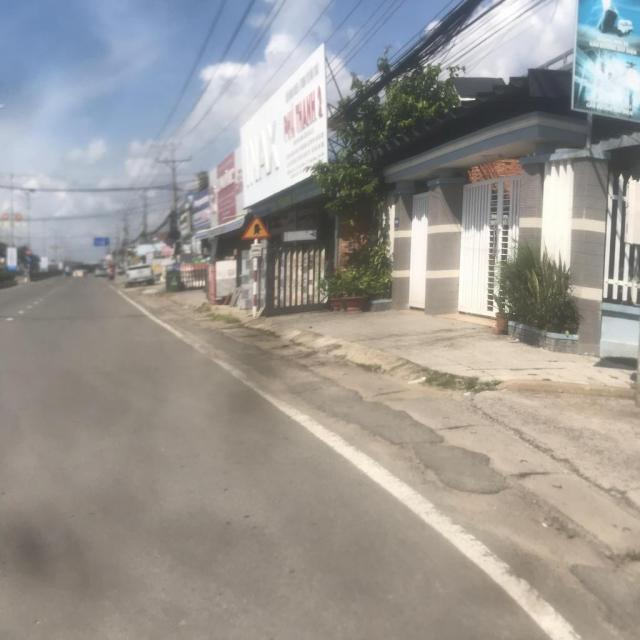cam_xe_di_nguoc_chieu: (26, 250, 32, 256)
giao_nhau_voi_duong_khong_uu_tien: (240, 215, 272, 240)
huong_phai_di_vuot_chuong_ngai_vat_phai: (24, 256, 32, 262)
khac: (94, 238, 109, 246)
